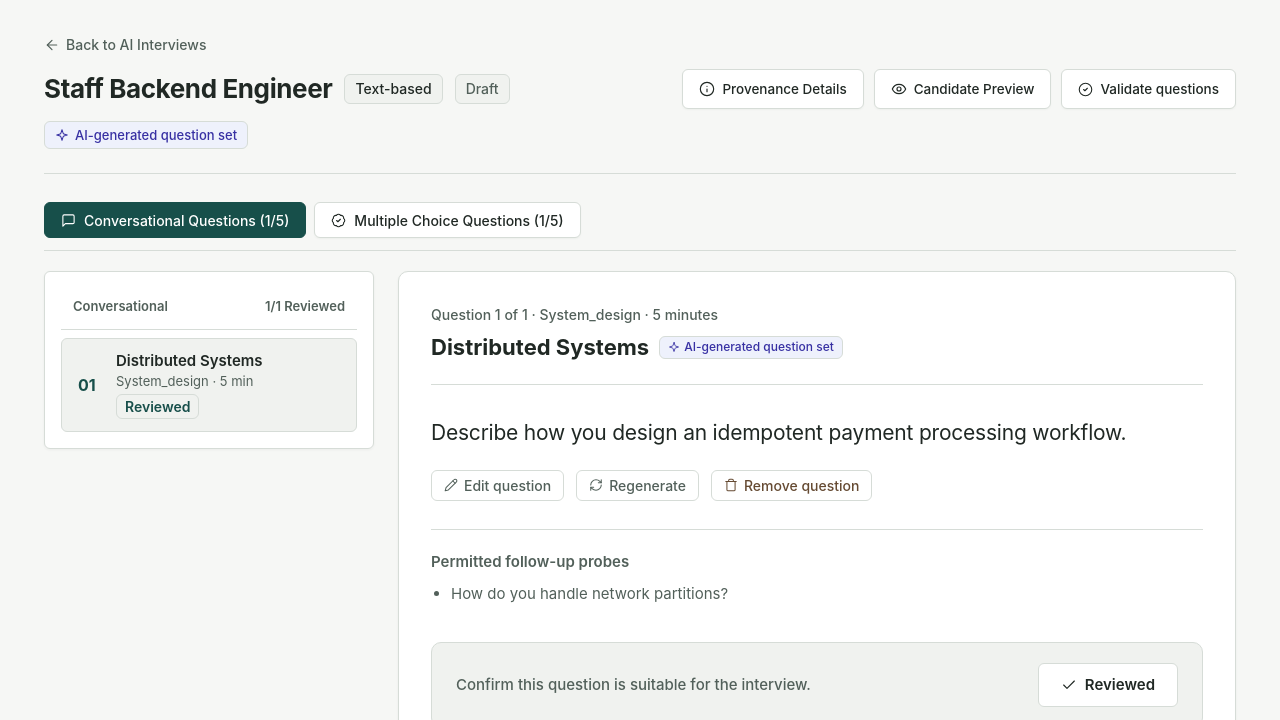
Scenario: Phase 3F.2 MCQ Management & Candidate Practice Release › AiQuestionSetWorkspace - MCQ Management › displays MCQ questions, correct option indicator, and explanation for recruiter
Click the tab "Multiple Choice Questions (1/5)". click: (448, 220)
box: [314,202,581,238]
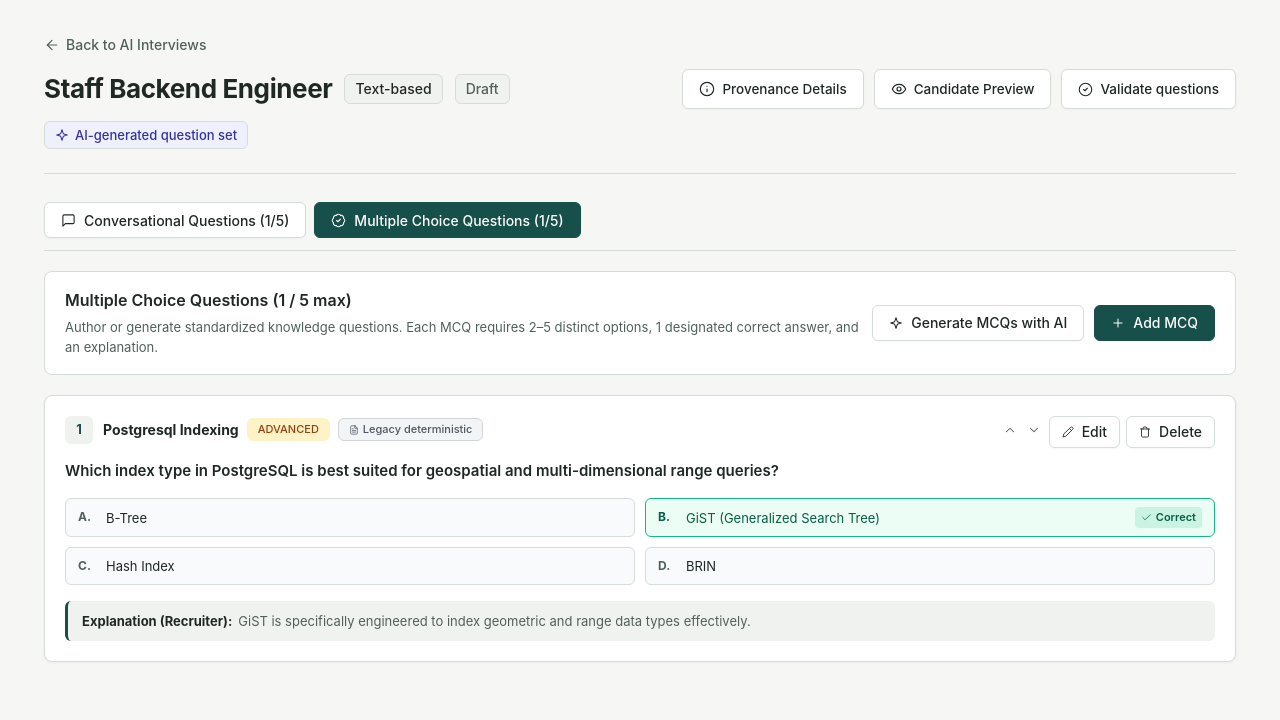
Check: the text "Which index type in PostgreSQL is best suited" is shown, box [65,461,779,480]
Check: the text "GiST (Generalized Search Tree)" is shown, box [686,510,880,526]
Check: the text "Correct" is shown, box [1135,507,1202,528]
